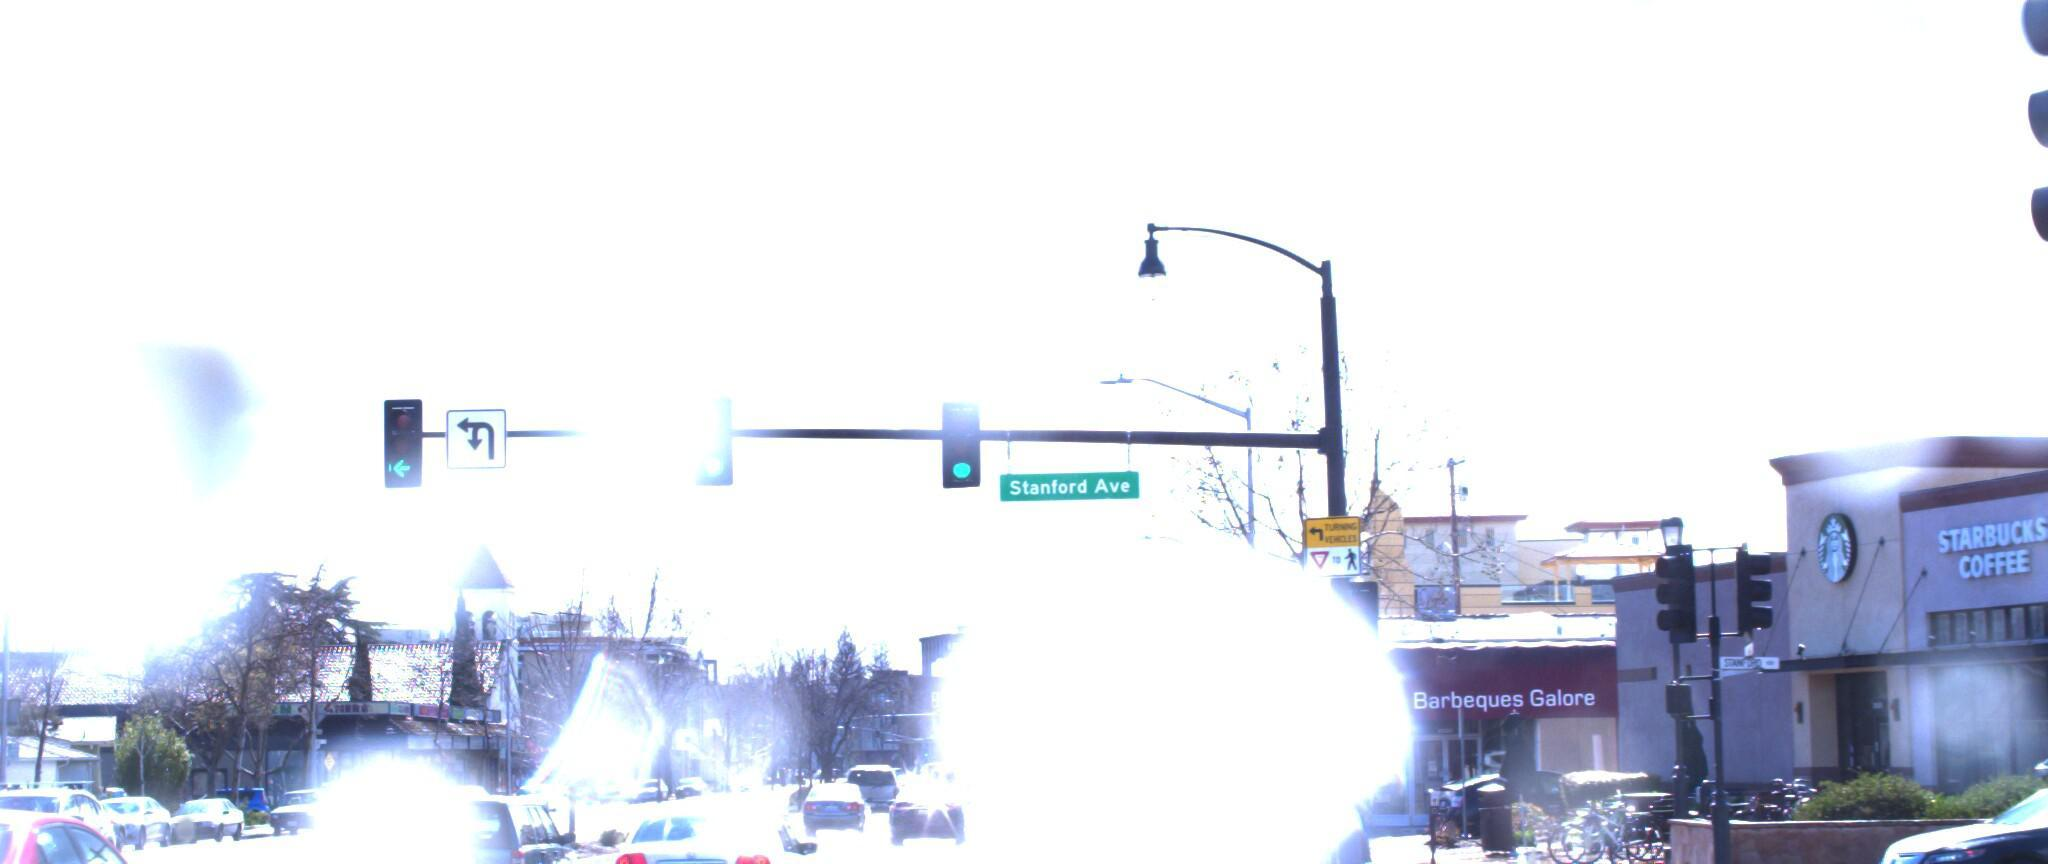bicycle: (1522, 783, 1657, 864), (1529, 783, 1664, 864)
car: (1814, 767, 2048, 864), (583, 779, 832, 864), (351, 784, 581, 864), (0, 787, 217, 864), (0, 765, 138, 864), (883, 771, 970, 838)
